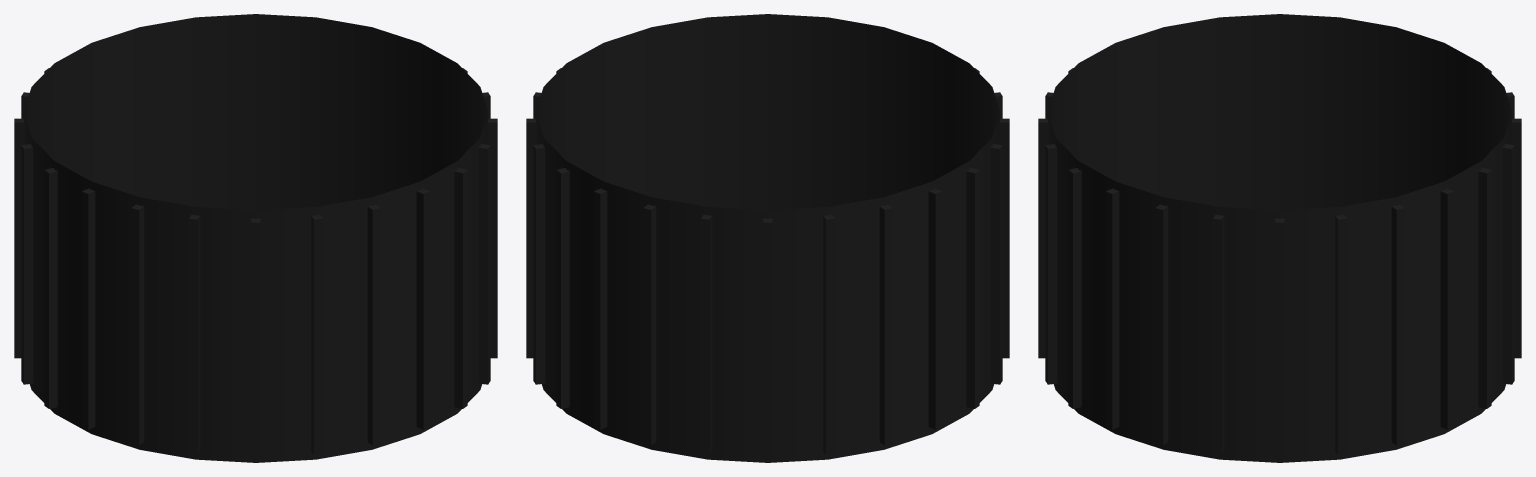
File: virgo_fuel_tank_s1_2.obj
3 views of the same model, side by side, from view 1: azimuth 30°, elevation 25°; view 2: azimuth 150°, elevation 25°; view 3: azimuth 270°, elevation 25° (orthographic).
Visible parts, largest first — view 1: mesh; view 2: mesh; view 3: mesh.
Boxes of the visible parts, x1,y1,x2,y2 form: mesh: (14, 14, 497, 462); mesh: (526, 14, 1009, 462); mesh: (1038, 14, 1521, 462).
Bounding box in the file's own units: 1.3 × 0.75 × 1.3.
